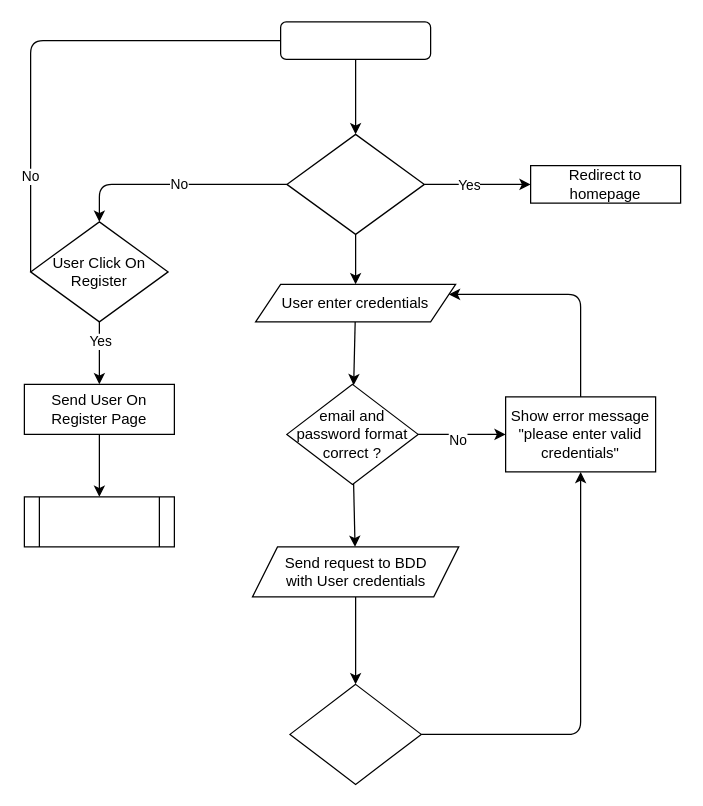
Image size: 703x806. Some labels were removed from this diagram. Each missing label, with the centre of its shape:
"Register" belongs at point (98, 521).
"Sign Up" belongs at point (355, 40).
"User already connected" belongs at point (355, 183).
"User exist in BDD" belongs at point (355, 733).
